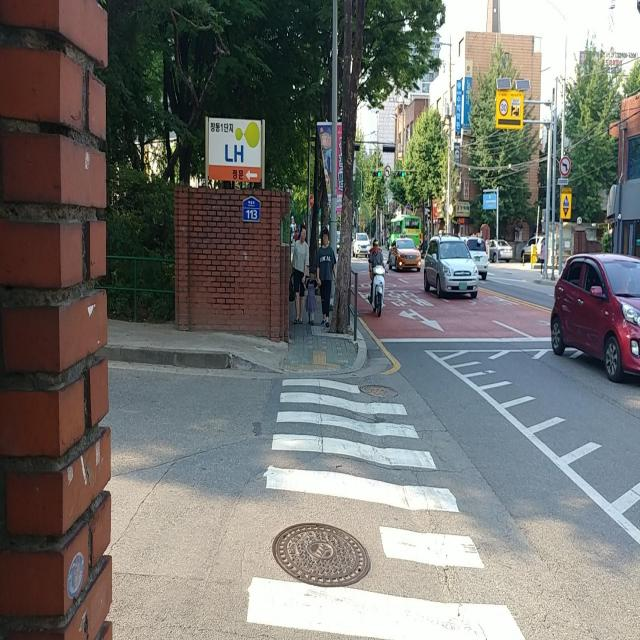횡단보도: (244, 373, 527, 640)
